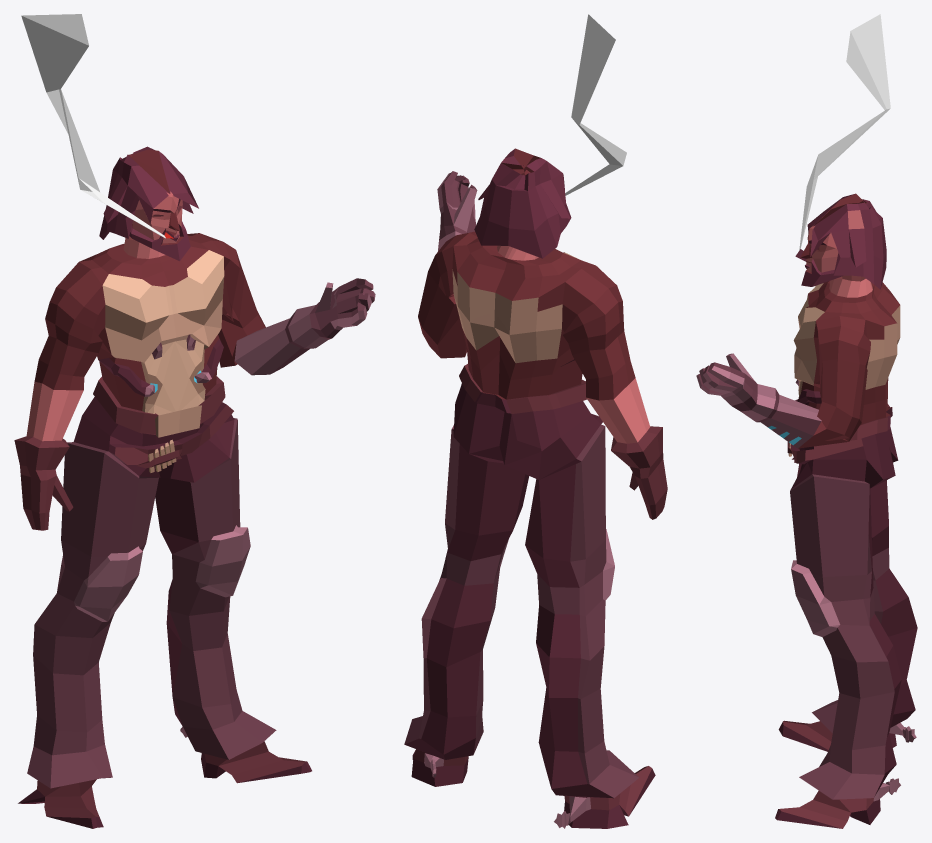
File: mccree.fbx
3 views of the same model, side by side, from view 1: azimuth 30°, elevation 25°; view 2: azimuth 150°, elevation 25°; view 3: azimuth 270°, elevation 25° (orthographic). The views are drawn at different scales.
Parts seen in each view (by area): view 1: mccree; view 2: mccree; view 3: mccree.
Part boxes in pixels (x1,y1,x2,y2): mccree: (14, 14, 375, 828); mccree: (404, 14, 667, 828); mccree: (696, 14, 917, 828).
Bounding box in the file's own units: 109 × 295 × 81.78.
